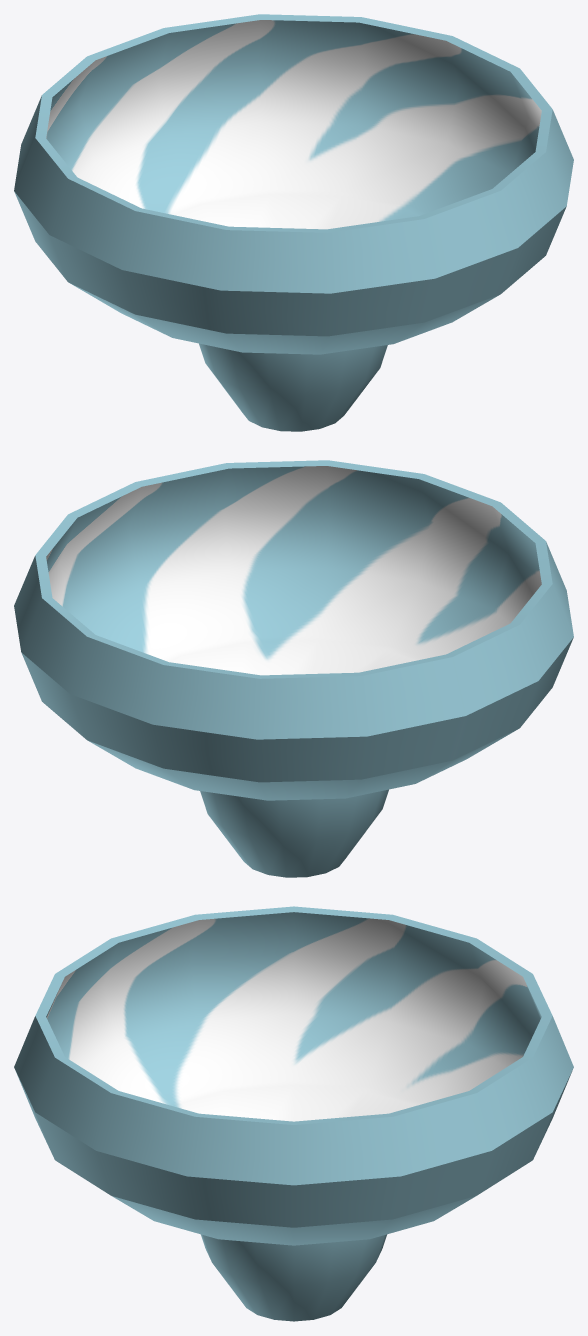
File: cycloon.fbx
3 views of the same model, one above another, from view 1: azimuth 30°, elevation 25°; view 2: azimuth 150°, elevation 25°; view 3: azimuth 270°, elevation 25° (orthographic).
Parts seen in each view (by area): view 1: Sphere; view 2: Sphere; view 3: Sphere.
Part boxes in pixels (<box>): Sphere: <box>14,14,573,431</box>; Sphere: <box>14,460,573,877</box>; Sphere: <box>14,906,573,1321</box>.
Bounding box in the file's own units: 200 × 112 × 200.
